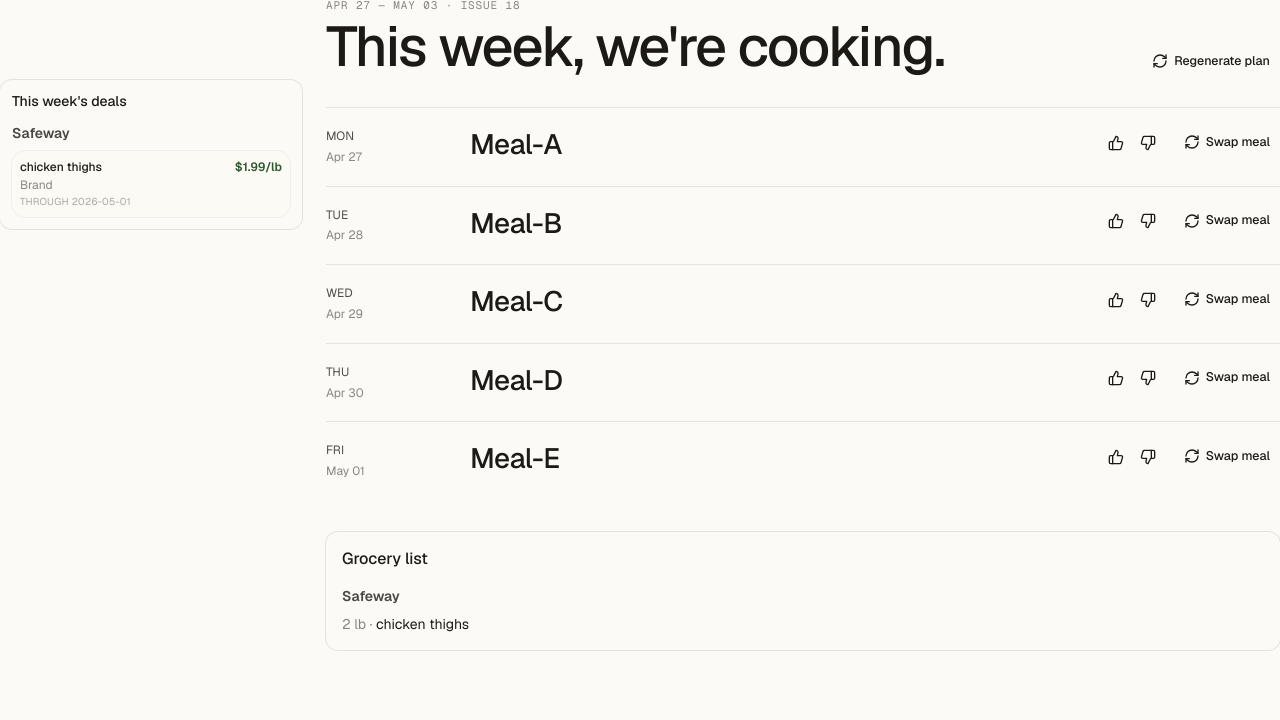
Home page › SwapDrawer flow › renders the empty-state copy when every recipe is already in the plan
Expected: the heading "Meal-A" is shown, [470,126,562,162]
Click the button with aria-label "swap meal 2" at (1227, 221), box [1174,207,1279,235]
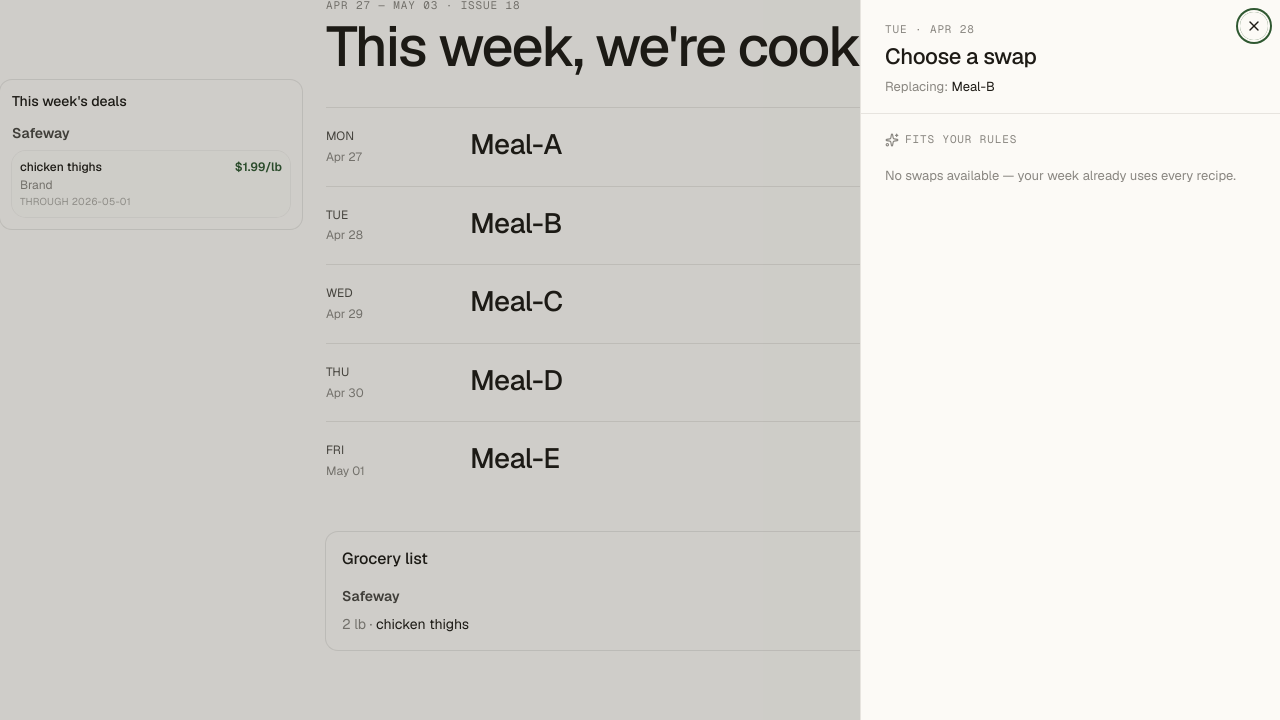
Result: the dialog is shown at [860,0,1279,719]
Result: the text "No swaps available — your week already uses every recipe." is shown at [885,166,1256,185]
